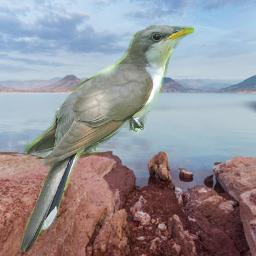Cuckoo: (19, 25, 194, 252)
